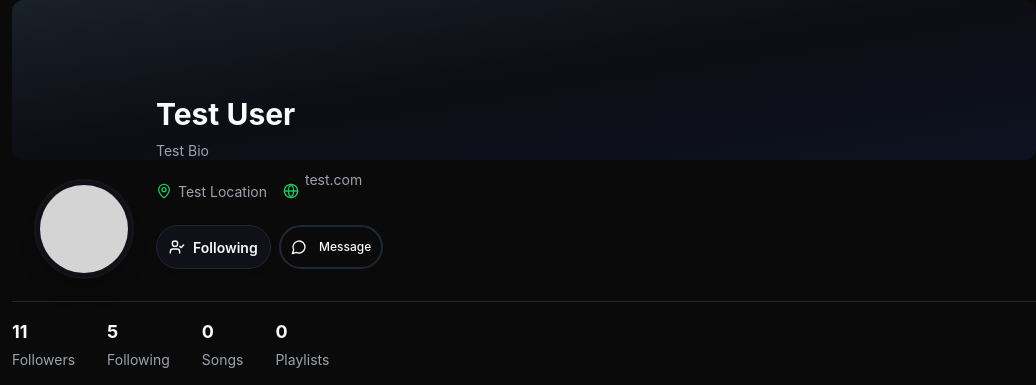
Test: ProfileHeader › handles unfollow toggle
Click the button "Following". click: (213, 247)
box: [156, 225, 271, 269]
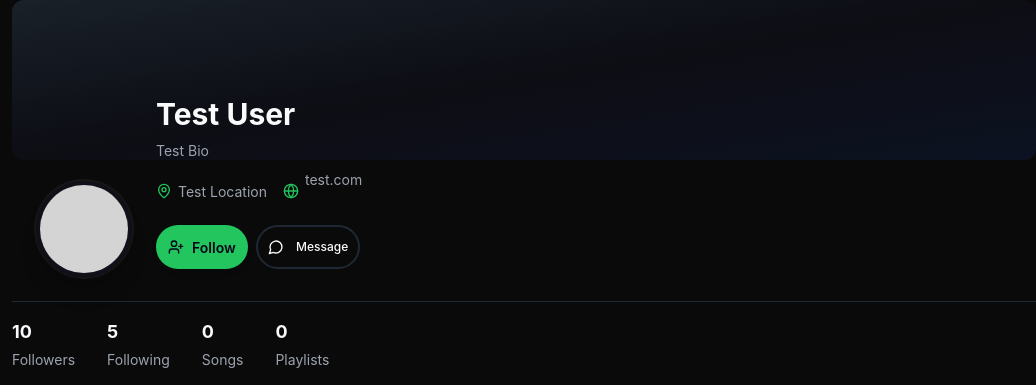
Expected: the button "Follow" is shown, [156, 225, 248, 269]
Now the text "10" is shown, box [12, 321, 32, 342]
